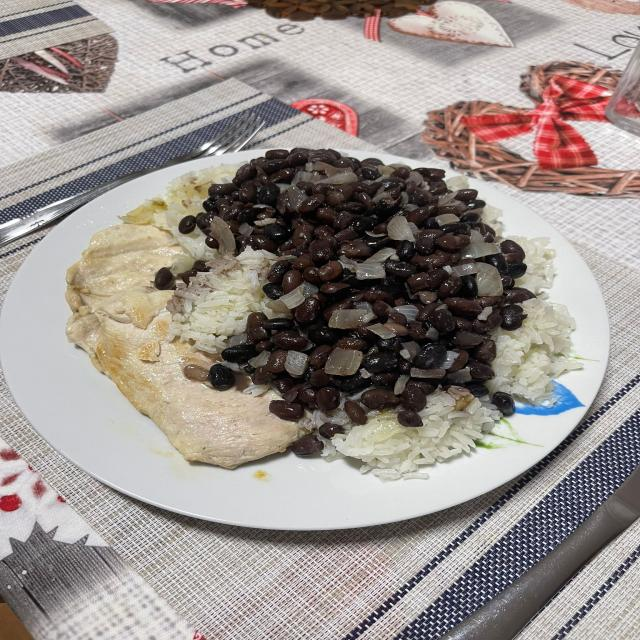black bean: (179, 148, 534, 427), (490, 392, 514, 414), (154, 269, 170, 290)
chicken steak: (0, 146, 609, 529), (65, 223, 299, 468)
plate: (0, 150, 610, 530)
rice: (299, 389, 500, 480), (489, 238, 582, 401), (169, 230, 289, 353)
